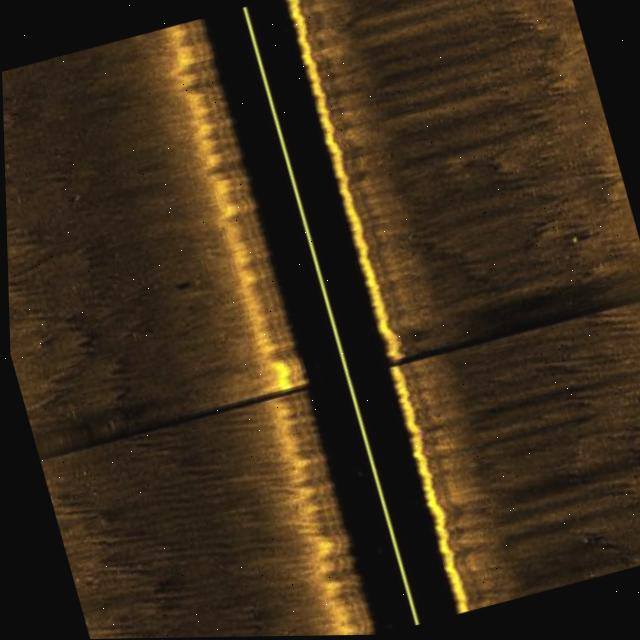mine: (565, 226, 590, 247), (63, 193, 77, 204)
